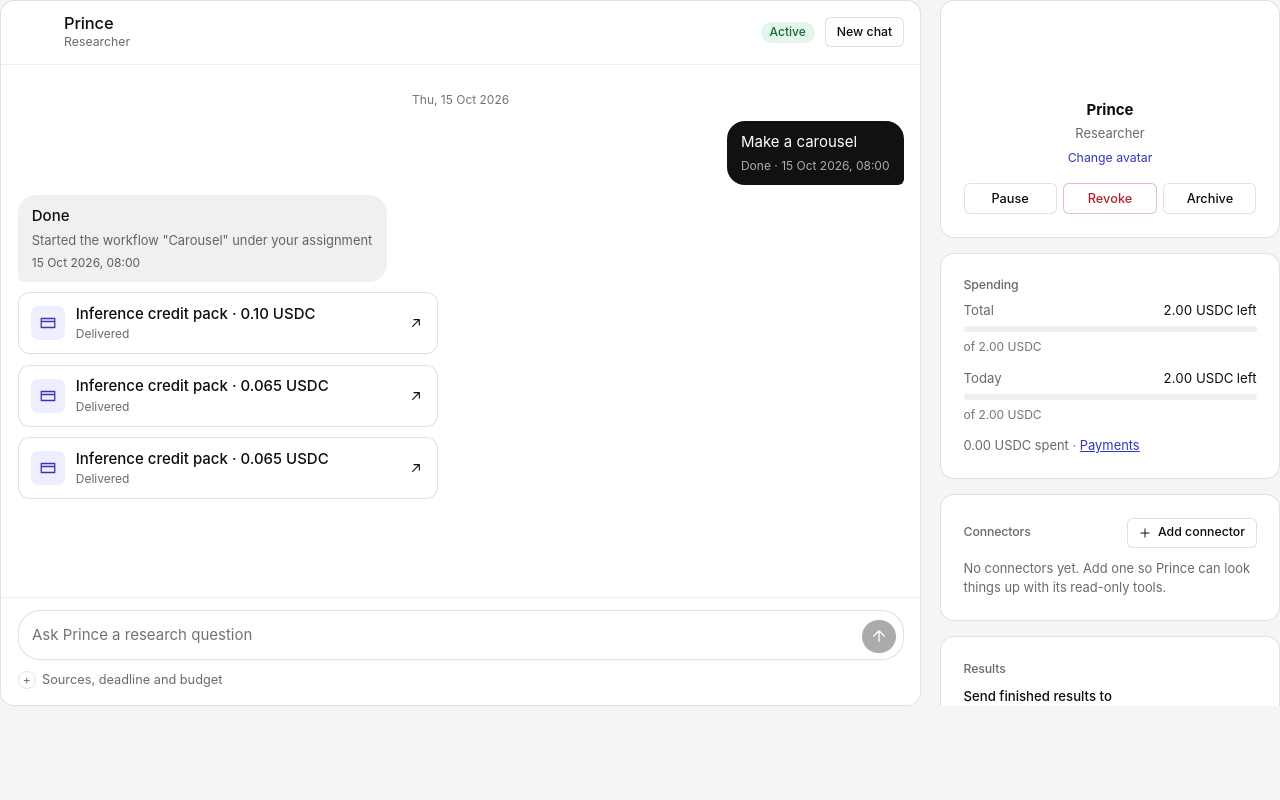
agent chat › New chat hides earlier entries per agent and Show earlier messages restores them
The image size is (1280, 800).
expect the list item "Make a carousel" is shown: met, box [741, 132, 857, 151]
Click the button "New chat".
click(865, 32)  # box [825, 18, 904, 48]
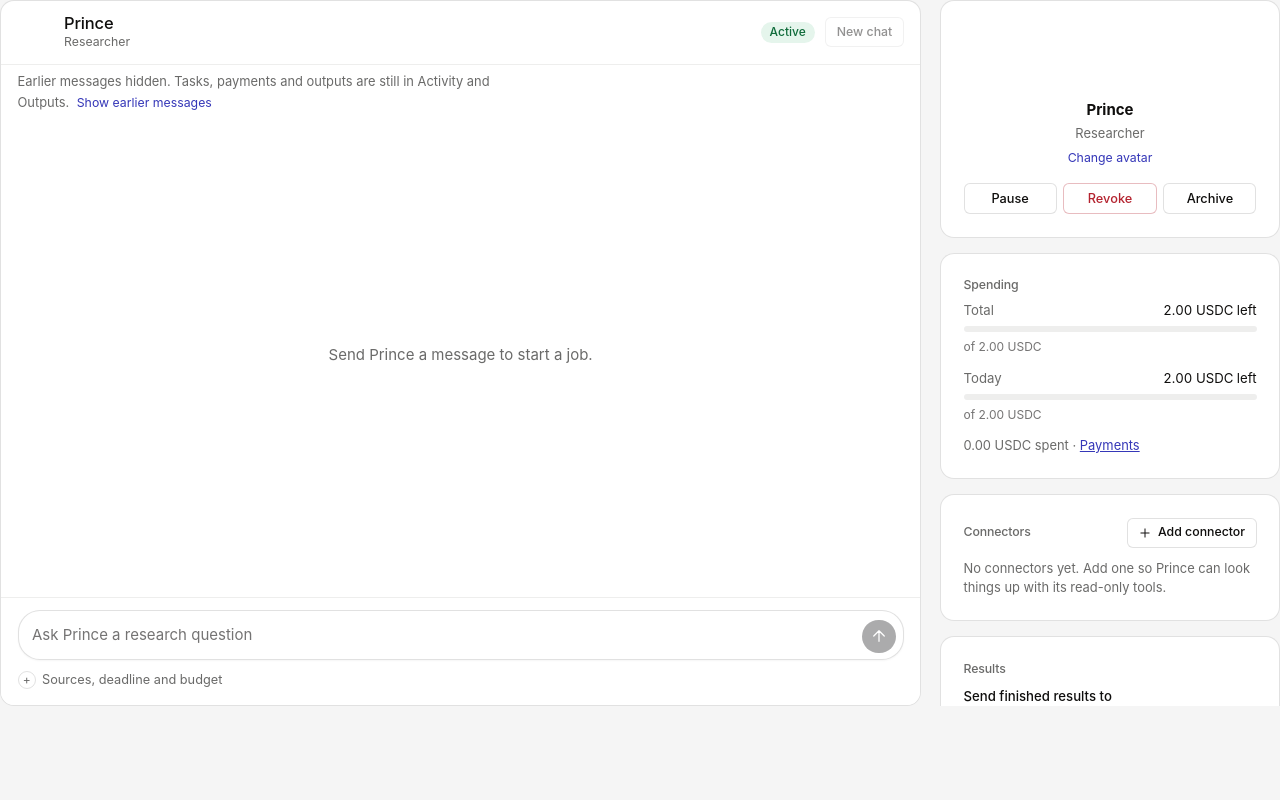
expect the list item "Make a carousel" is gone: met
Click the button "Show earlier messages".
click(144, 103)  # box [73, 92, 216, 115]
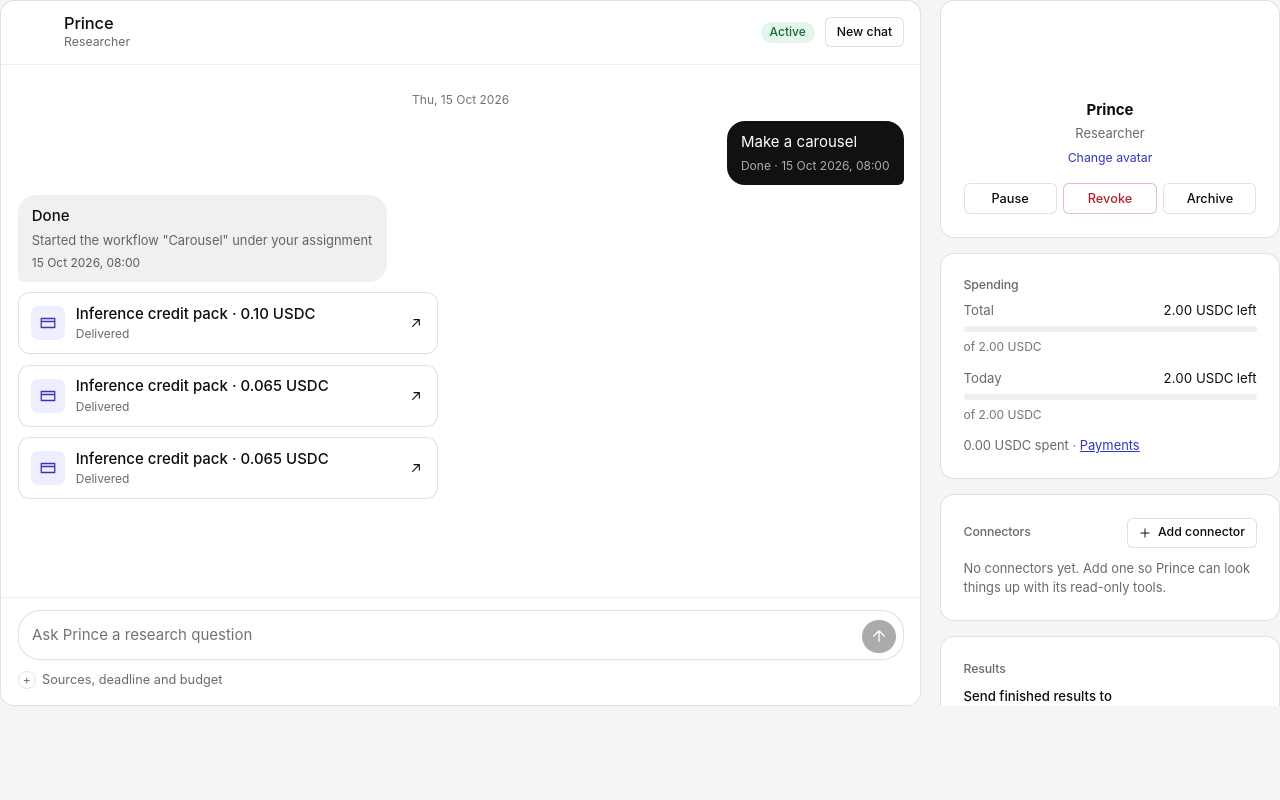
expect the list item "Make a carousel" is shown: met, box [741, 132, 857, 151]
